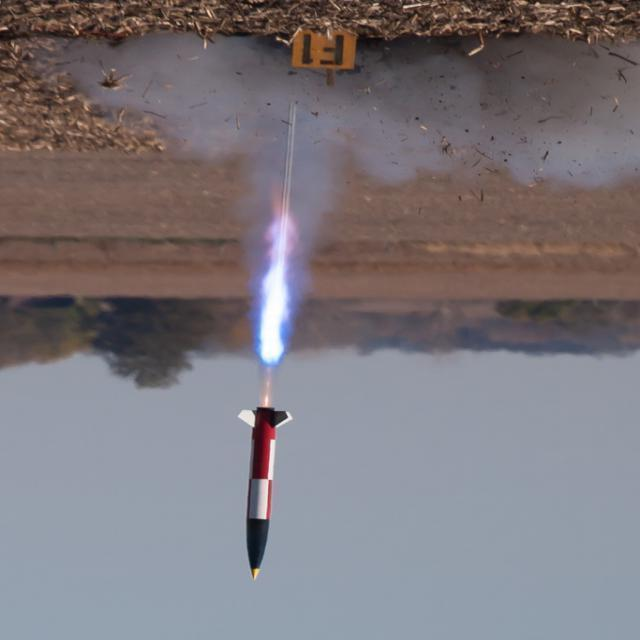missile: (230, 401, 294, 586)
